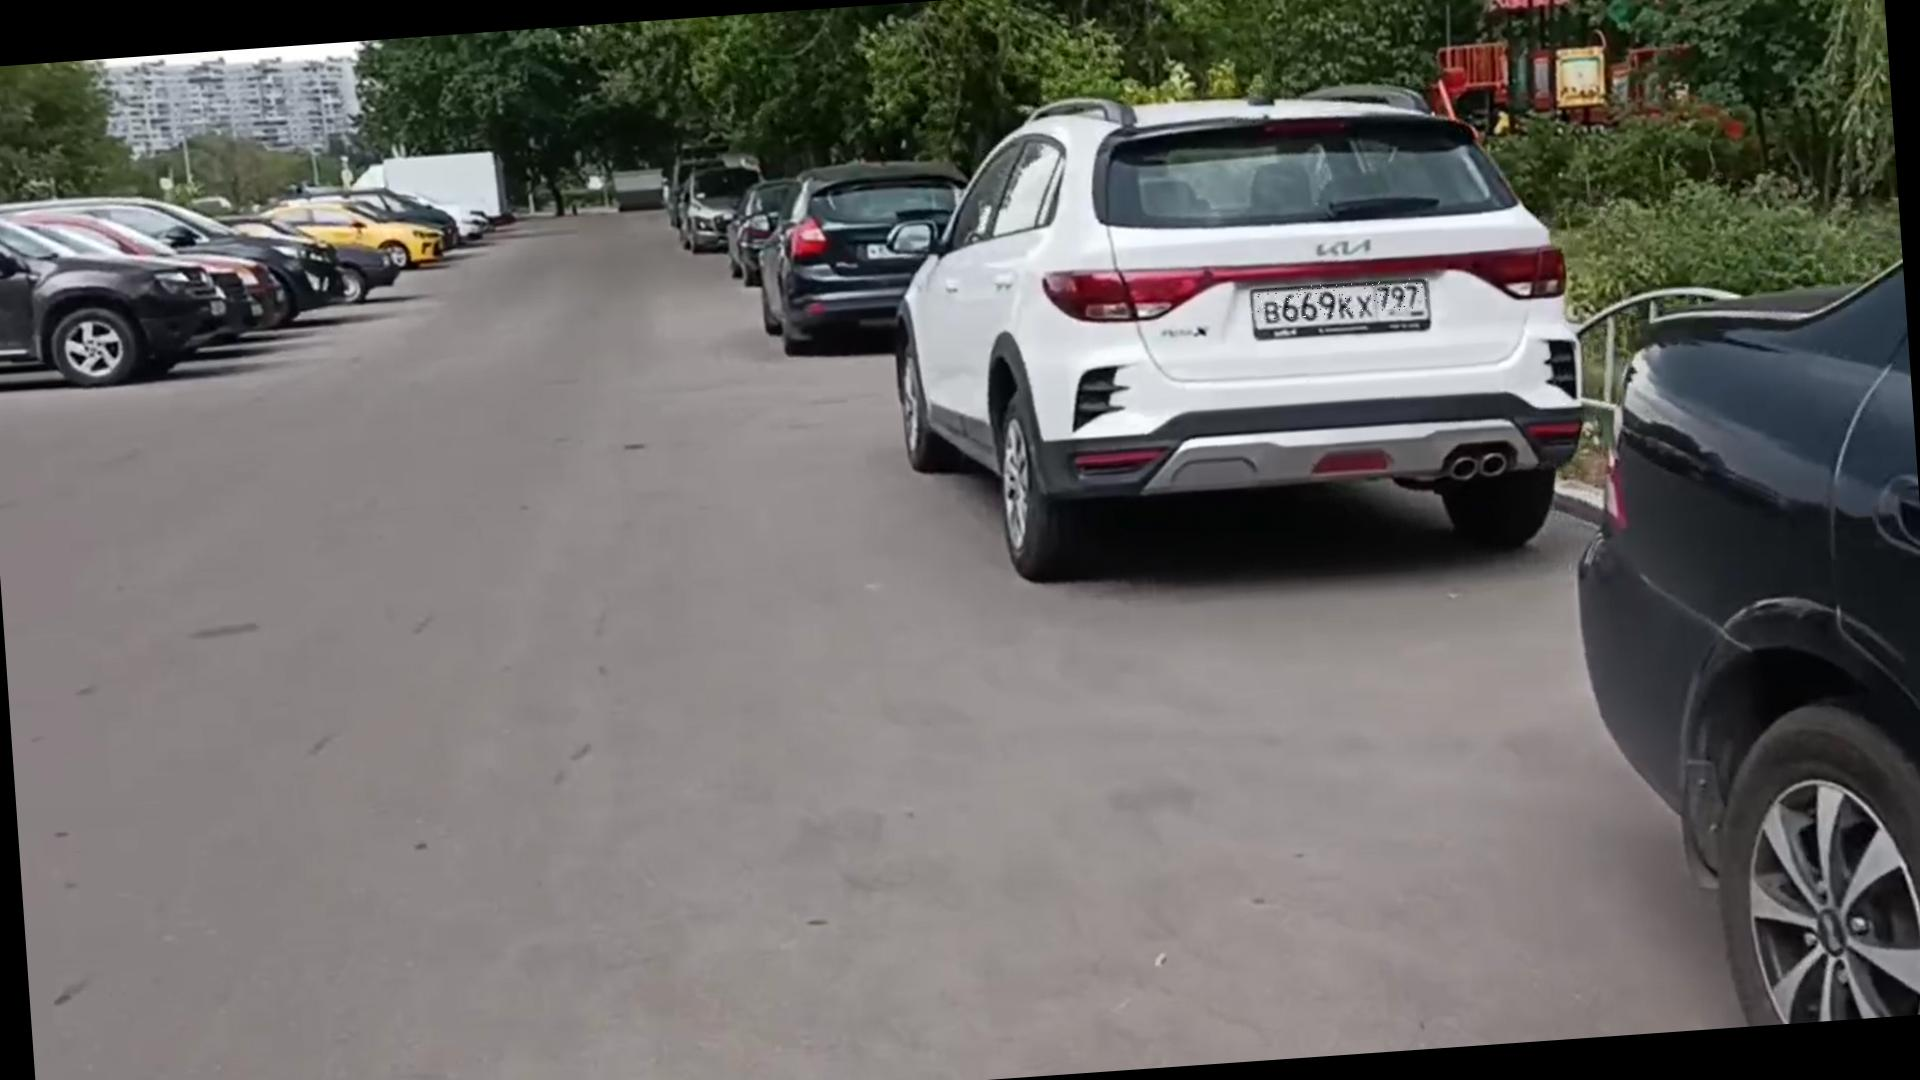plate: (1252, 279, 1431, 323)
